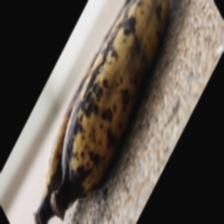banana: (39, 59, 201, 196)
